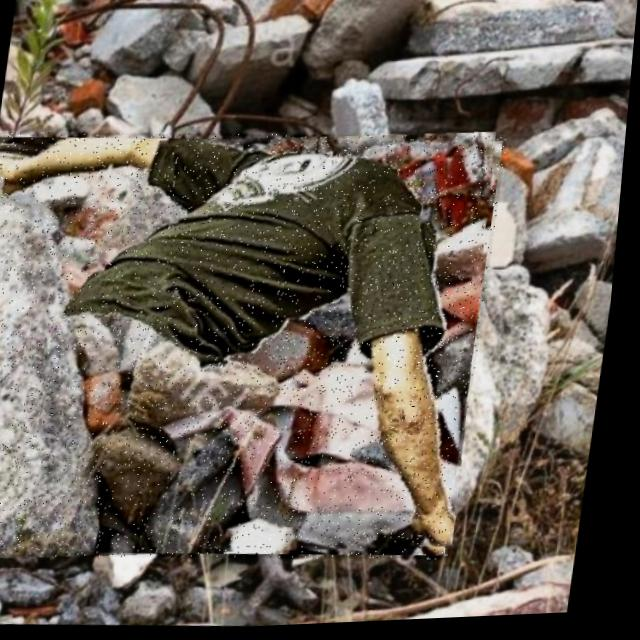Person in Rubble: (0, 114, 512, 581)
